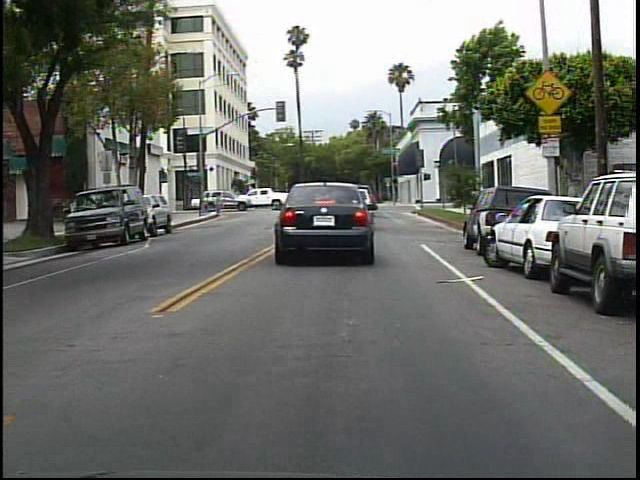person: (211, 188, 229, 218)
